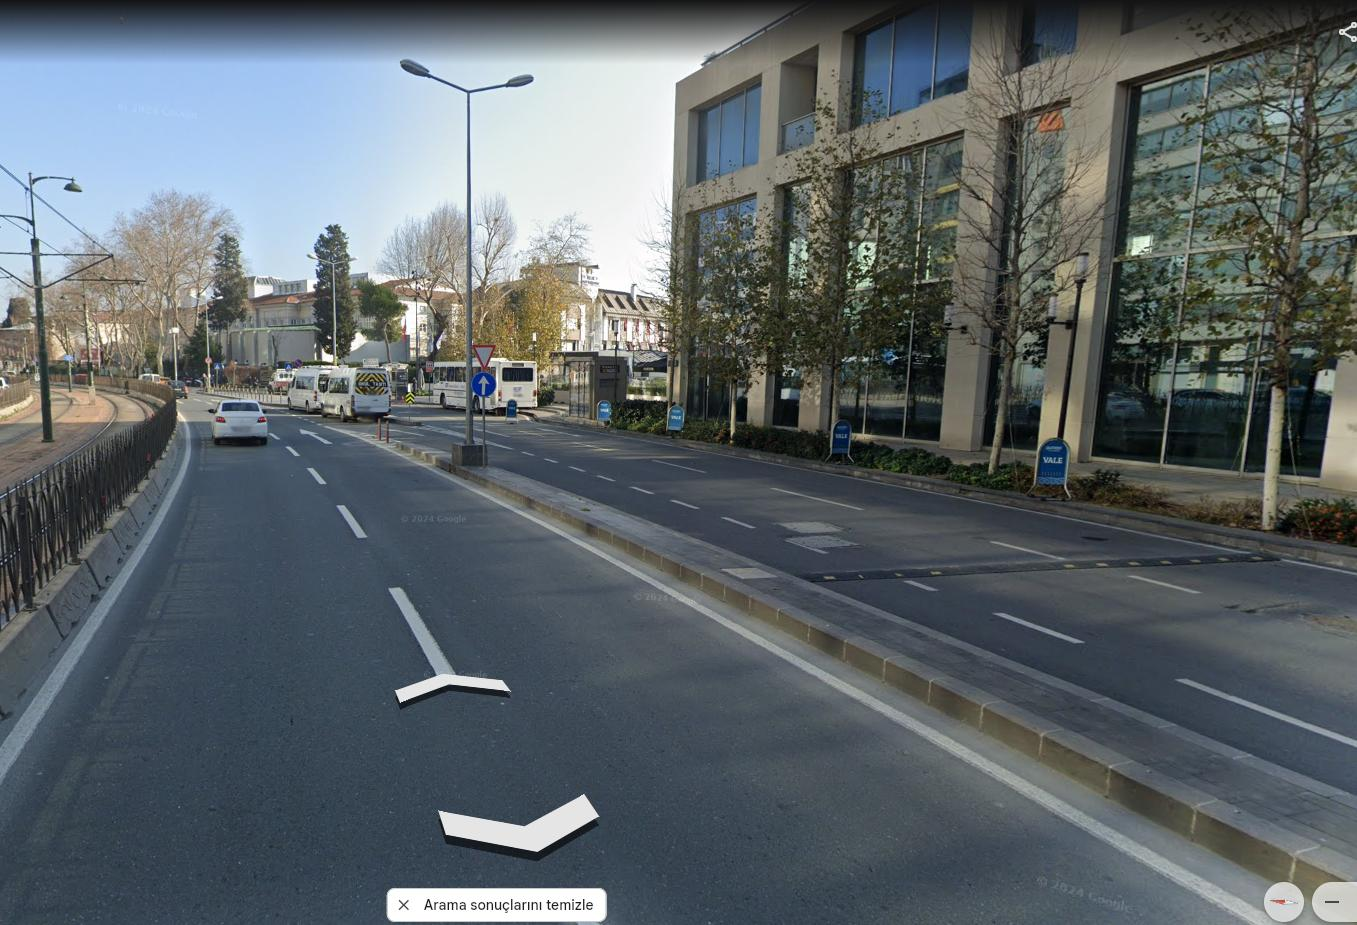forward: (470, 372, 497, 397)
